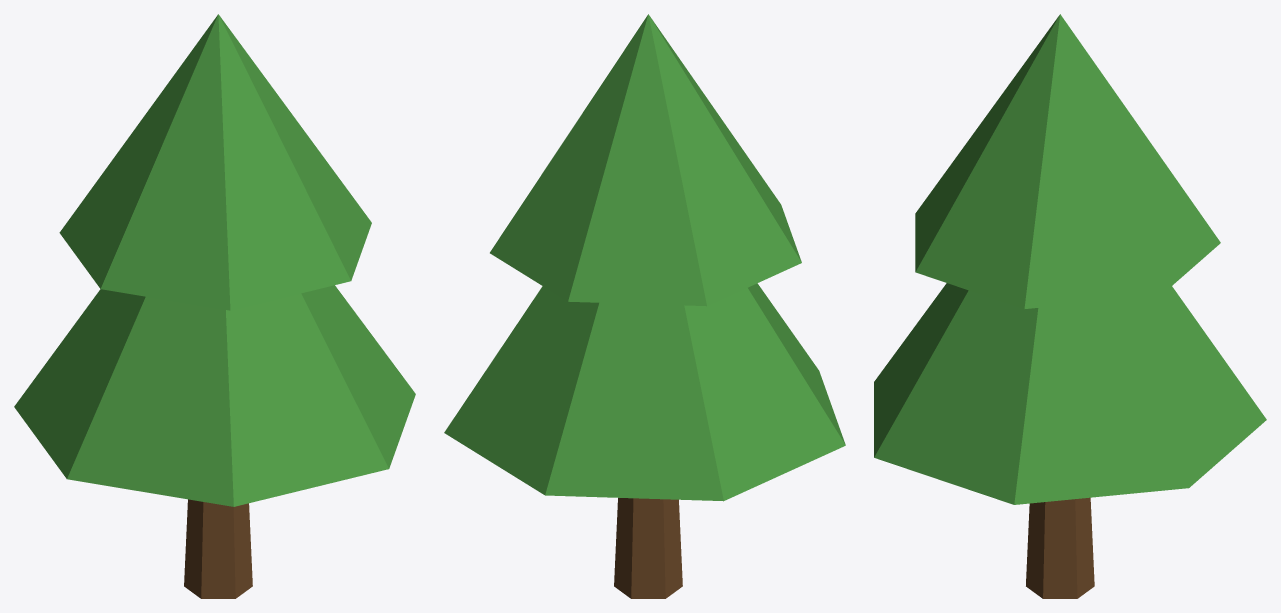
Rendered from tree.glb.
3 renders of one model, left to right at view 1: azimuth 30°, elevation 25°; view 2: azimuth 150°, elevation 25°; view 3: azimuth 270°, elevation 25°, orthographic.
Parts seen in each view (by area): view 1: TreeMesh; view 2: TreeMesh; view 3: TreeMesh.
Part boxes in pixels (x1,y1,x2,y2): TreeMesh: [14, 14, 415, 598]; TreeMesh: [444, 14, 845, 598]; TreeMesh: [874, 14, 1266, 598].
Bounding box in the file's own units: 1.75 × 2.75 × 1.71.
